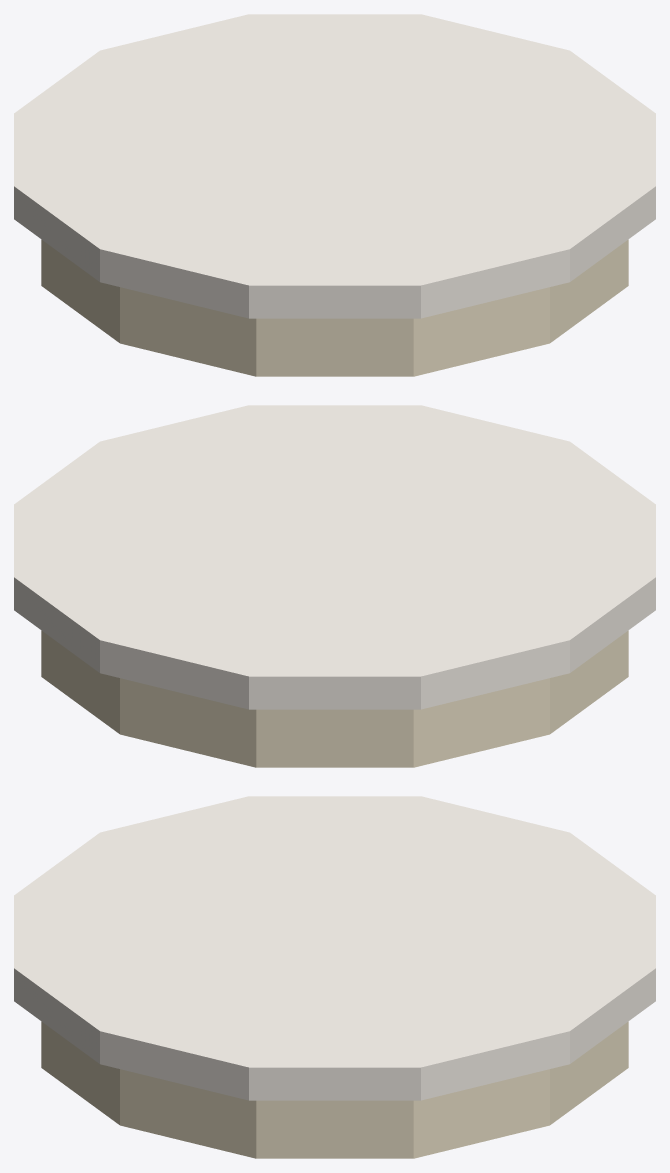
The model's file is pedestal-tier-3.glb.
3 renders of one model, top to bottom at view 1: azimuth 30°, elevation 25°; view 2: azimuth 150°, elevation 25°; view 3: azimuth 270°, elevation 25°, orthographic.
Parts seen in each view (by area): view 1: shared-pedestal-tier-3; view 2: shared-pedestal-tier-3; view 3: shared-pedestal-tier-3.
Boxes of the visible parts, x1,y1,x2,y2 form: shared-pedestal-tier-3: (14, 14, 655, 376); shared-pedestal-tier-3: (14, 405, 655, 767); shared-pedestal-tier-3: (14, 796, 655, 1158).
Size of the model in its own units: 15.84 by 2.8 by 15.84.
